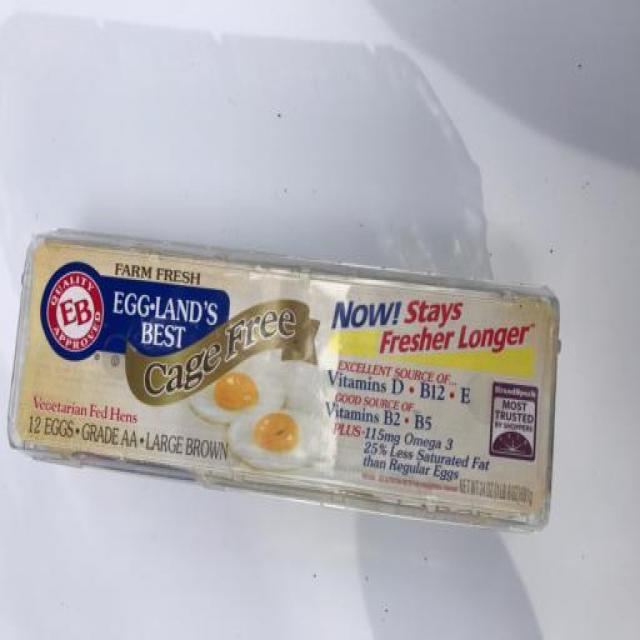others: (11, 204, 576, 534)
